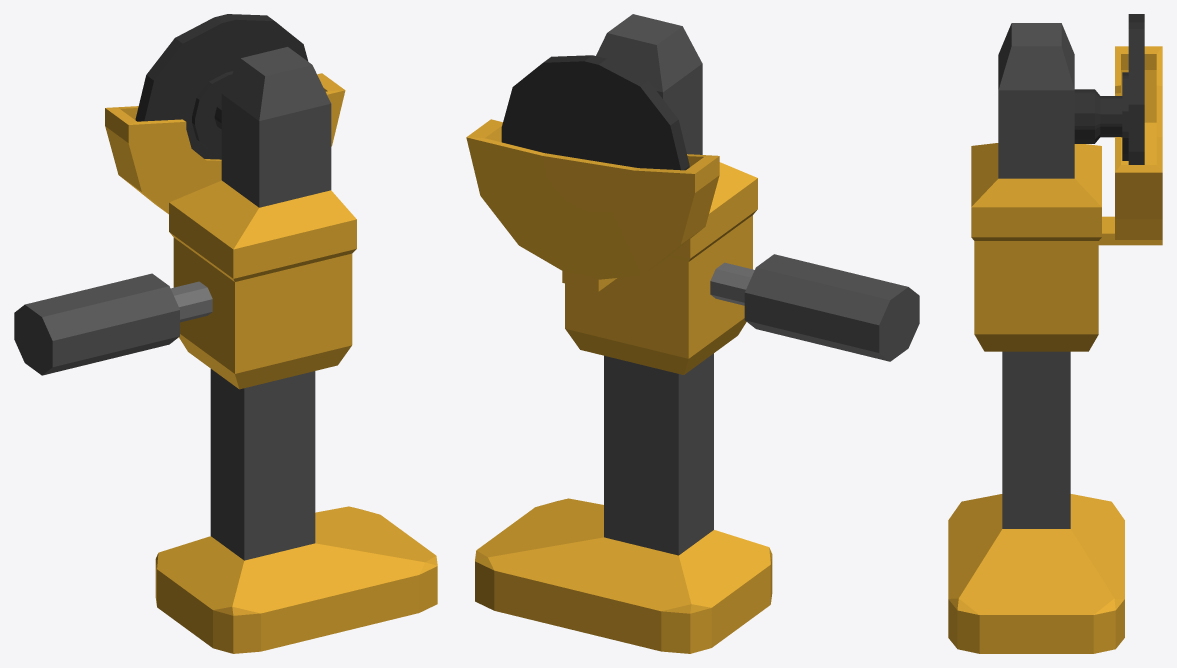
3 renders of one model, left to right at view 1: azimuth 30°, elevation 25°; view 2: azimuth 150°, elevation 25°; view 3: azimuth 270°, elevation 25°, orthographic. The views are drawn at different scales.
Visible parts, largest first — view 1: F-40; view 2: F-40; view 3: F-40.
Boxes of the visible parts, left/top/right/bottom form: F-40: left=14, top=14, right=437, bottom=653; F-40: left=466, top=14, right=919, bottom=653; F-40: left=948, top=14, right=1162, bottom=653.
Bounding box in the file's own units: 61.01 × 85.92 × 29.74.
